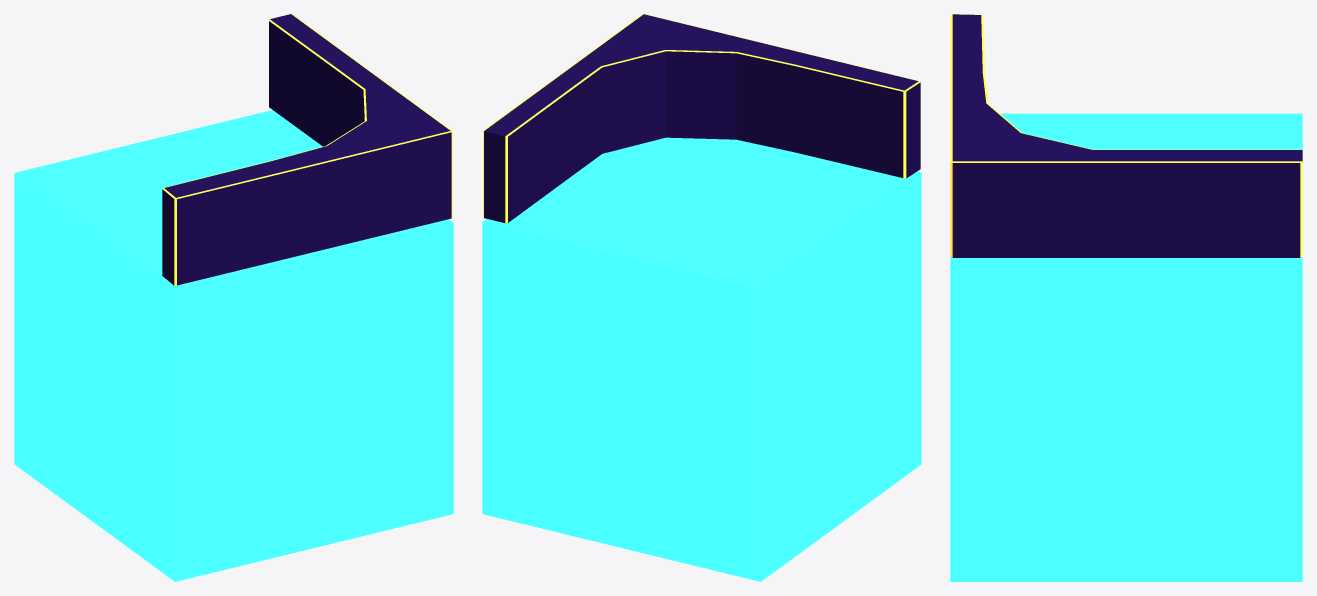
The model's file is block_ice_corner.glb.
The picture shows the model from 3 angles, left to right: view 1: azimuth 30°, elevation 25°; view 2: azimuth 150°, elevation 25°; view 3: azimuth 270°, elevation 25°; orthographic projection. The views are drawn at different scales.
Visible parts, largest first — view 1: Cube, Cube.001; view 2: Cube, Cube.001; view 3: Cube, Cube.001.
Boxes of the visible parts, box(x1,y1,x2,y2) form: Cube: box(14, 110, 453, 581); Cube.001: box(162, 14, 452, 285); Cube: box(482, 137, 921, 581); Cube.001: box(483, 14, 920, 223); Cube: box(950, 113, 1302, 581); Cube.001: box(950, 14, 1302, 257).
Size of the model in its own units: 1 by 1.31 by 1.
3 materials, 2 textured.
